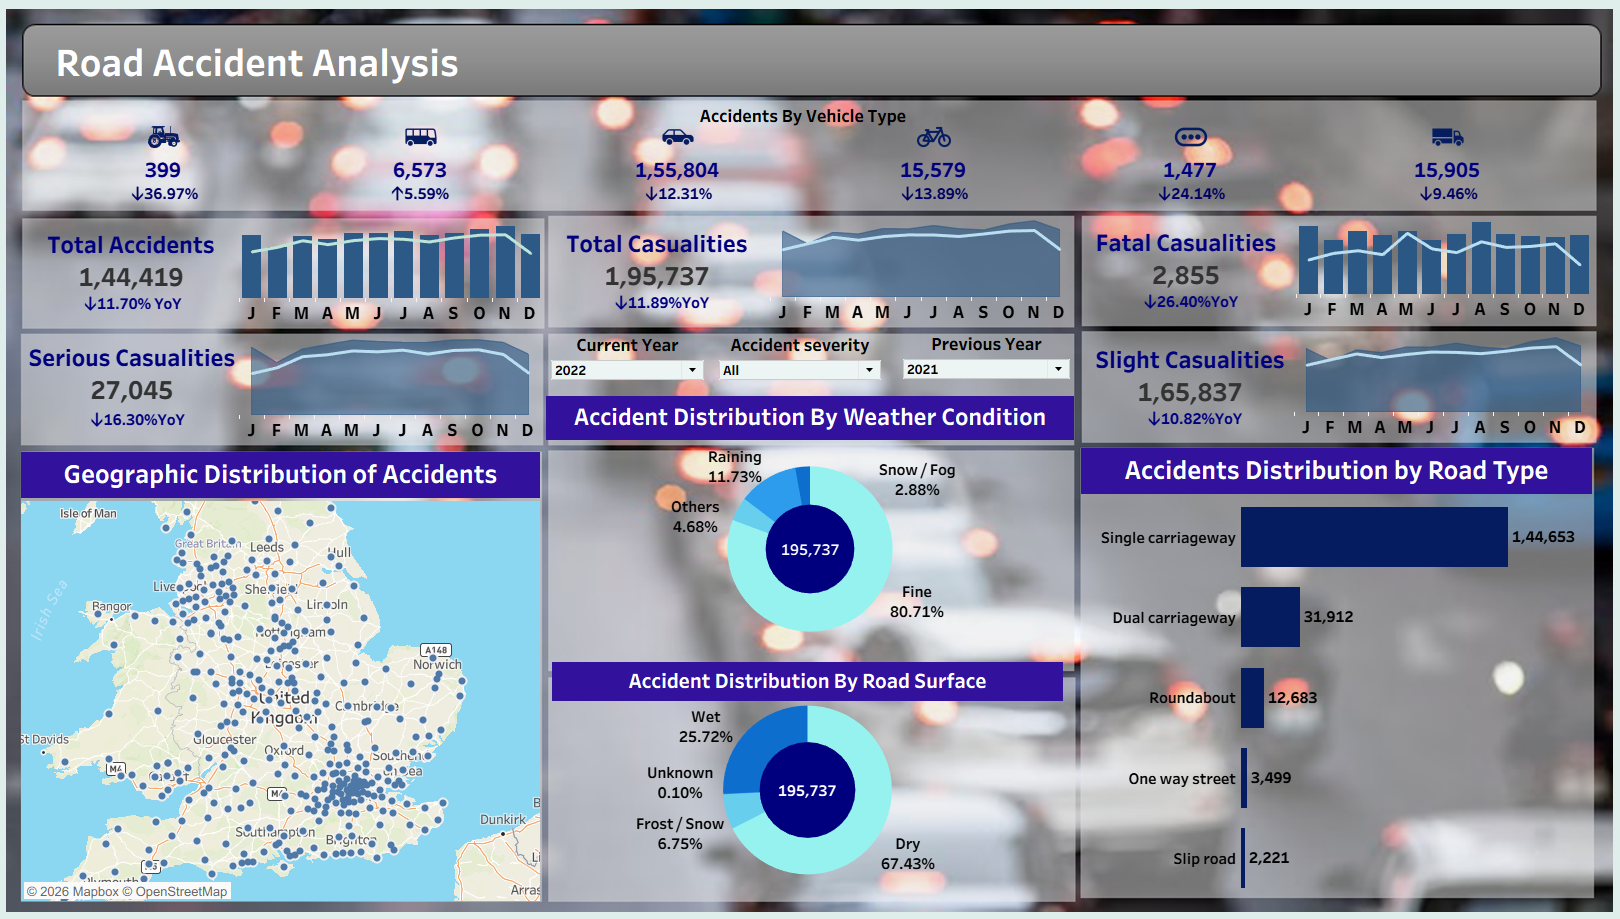

This screenshot's page, from the dashboard's own definition file:
{"tool":"tableau","page":{"name":"Road Accident Analysis","canvas":[1600,900],"ordinal":1},"visuals":[{"type":"image","param":"C:/Users/TANVI YERAM/OneDrive/Documents/NYC Layout.png","box":[8,8,1584,884]},{"type":"text","box":[47,33,1504,56]},{"type":"text","box":[639,100,318,30]},{"type":"worksheet","title":"images","mark":"Shape","box":[31,119,1540,35]},{"type":"worksheet","title":"Vehicle type KPI","mark":"Automatic","box":[30,156,1540,48]},{"type":"worksheet","title":"Fatal Casualities","mark":"Automatic","box":[1070,211,196,113]},{"type":"worksheet","title":"Total Casualities","mark":"Automatic","box":[554,214,196,102]},{"type":"worksheet","title":"Total Casualities sparkline","mark":"Line","rows":["current year Causualities (copy)_0405448617402374","Calculation_0405448616124421"],"cols":["Accident Date"],"box":[767,215,287,107]},{"type":"worksheet","title":"Fatal sparkline","mark":"Line","rows":["CY Fatal Casualities (copy)_0405448620318730","Calculation_0405448619421705"],"cols":["Accident Date"],"box":[1265,216,296,102]},{"type":"worksheet","title":"Total Accidents","mark":"Automatic","box":[53,218,180,102]},{"type":"worksheet","title":"Accidents Sparkline","mark":"Line","rows":["Current Year Accidents (copy)_0405448610525187","Calculation_0405448608624642"],"cols":["Accident Date"],"box":[253,220,285,102]},{"type":"worksheet","title":"Slight Casualities","mark":"Automatic","box":[1069,323,197,113]},{"type":"worksheet","title":"Serious Sparkline","mark":"Line","rows":["PY Fatal Casualities (copy)_0405448626880526","CY Fatal Casualities (copy)_0405448626216972"],"cols":["Accident Date"],"box":[258,328,278,106]},{"type":"worksheet","title":"Slight Sparkline","mark":"Line","rows":["PY Serious Casualities  (copy)_0405448628150289","CY Serious Casualities  (copy)_0405448627900432"],"cols":["Accident Date"],"box":[1270,329,291,105]},{"type":"parameter","param":"[Parameters].[Current Year (copy)_0405448608325633]","box":[882,331,173,62]},{"type":"worksheet","title":"Serious Casualities","mark":"Automatic","box":[38,332,222,102]},{"type":"parameter","param":"[Parameters].[Parameter 2]","box":[712,332,168,62]},{"type":"parameter","param":"[Parameters].[Parameter 1]","box":[549,333,159,61]},{"type":"worksheet","title":"Weather Condition","mark":"Pie","rows":["Calculation_1157240269987841","Calculation_1157240270020611"],"box":[548,394,507,261]},{"type":"worksheet","title":"Road Type","mark":"Automatic","rows":["Road_Type"],"cols":["Calculation_0405448616124421"],"box":[1064,439,495,436]},{"type":"worksheet","title":"Map Chart","mark":"Automatic","rows":["Latitude"],"cols":["Longitude"],"box":[36,443,504,435]},{"type":"worksheet","title":"Road Surface","mark":"Pie","rows":["Calculation_1157240269987841","Calculation_1157240270020611"],"box":[547,662,511,214]}]}

Visuals, with their boxes in screenshot pixels (x1, y1, x2, y2), scaled from the page's 1600x900 canvas onto the 1620x919 screenshot:
image: [x1=8, y1=8, x2=1612, y2=911]
text: [x1=48, y1=34, x2=1570, y2=91]
text: [x1=647, y1=102, x2=969, y2=133]
"images" worksheet (Shape marks): [x1=31, y1=122, x2=1591, y2=157]
"Vehicle type KPI" worksheet: [x1=30, y1=159, x2=1590, y2=208]
"Fatal Casualities" worksheet: [x1=1083, y1=215, x2=1282, y2=331]
"Total Casualities" worksheet: [x1=561, y1=219, x2=759, y2=323]
"Total Casualities sparkline" worksheet (Line marks): [x1=777, y1=220, x2=1067, y2=329]
"Fatal sparkline" worksheet (Line marks): [x1=1281, y1=221, x2=1581, y2=325]
"Total Accidents" worksheet: [x1=54, y1=223, x2=236, y2=327]
"Accidents Sparkline" worksheet (Line marks): [x1=256, y1=225, x2=545, y2=329]
"Slight Casualities" worksheet: [x1=1082, y1=330, x2=1282, y2=445]
"Serious Sparkline" worksheet (Line marks): [x1=261, y1=335, x2=543, y2=443]
"Slight Sparkline" worksheet (Line marks): [x1=1286, y1=336, x2=1581, y2=443]
parameter: [x1=893, y1=338, x2=1068, y2=401]
"Serious Casualities" worksheet: [x1=38, y1=339, x2=263, y2=443]
parameter: [x1=721, y1=339, x2=891, y2=402]
parameter: [x1=556, y1=340, x2=717, y2=402]
"Weather Condition" worksheet (Pie marks): [x1=555, y1=402, x2=1068, y2=669]
"Road Type" worksheet: [x1=1077, y1=448, x2=1578, y2=893]
"Map Chart" worksheet: [x1=36, y1=452, x2=547, y2=897]
"Road Surface" worksheet (Pie marks): [x1=554, y1=676, x2=1071, y2=894]
